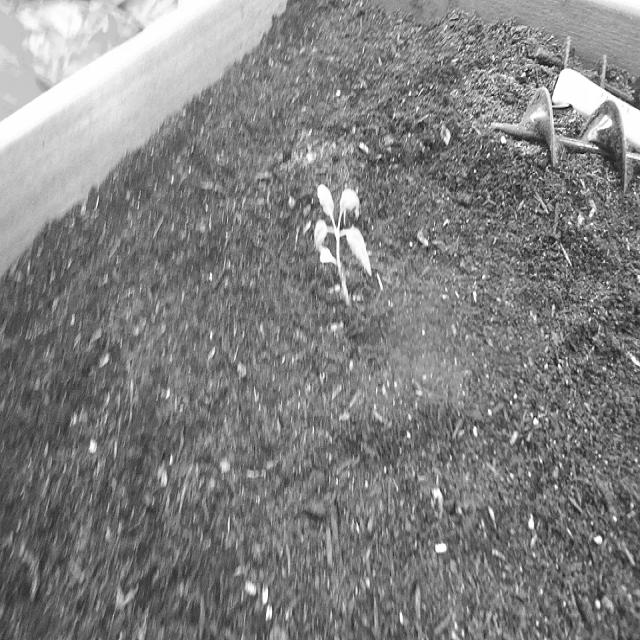Healthy: (312, 180, 374, 310)
